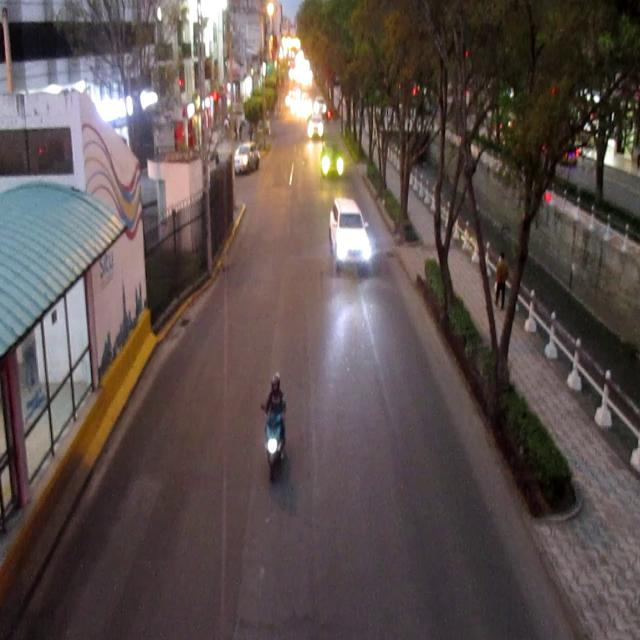MOTORCYCLE: (264, 375, 289, 477)
SUV: (236, 147, 260, 176)
